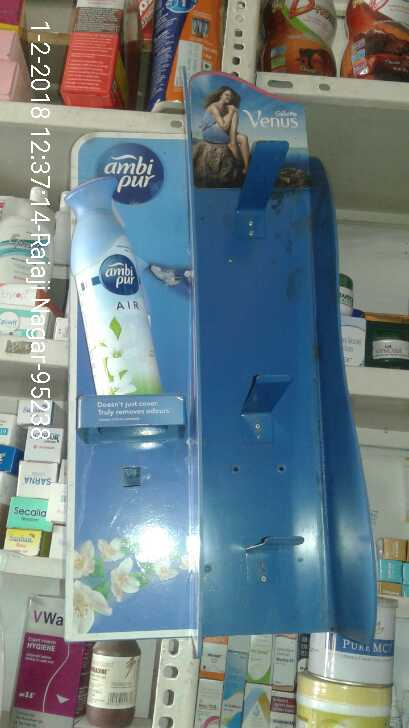home: (61, 182, 173, 397)
